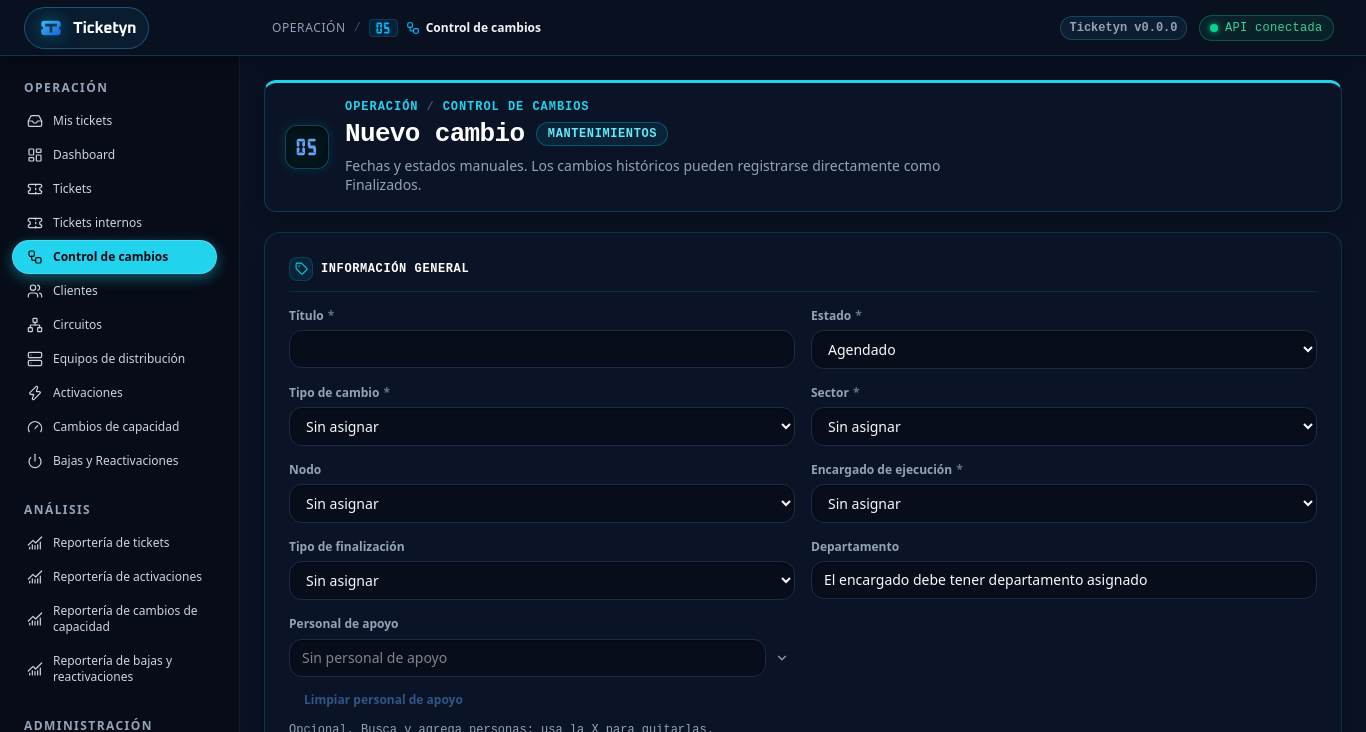
Control de cambios › crea sin ticket interno y deriva departamento en solo lectura
This screenshot has width=1366, height=732.
Type "Cambio nuevo" into the field labelled "Título". click: (542, 349)
box: [289,330,795,368]
(page scrolled)
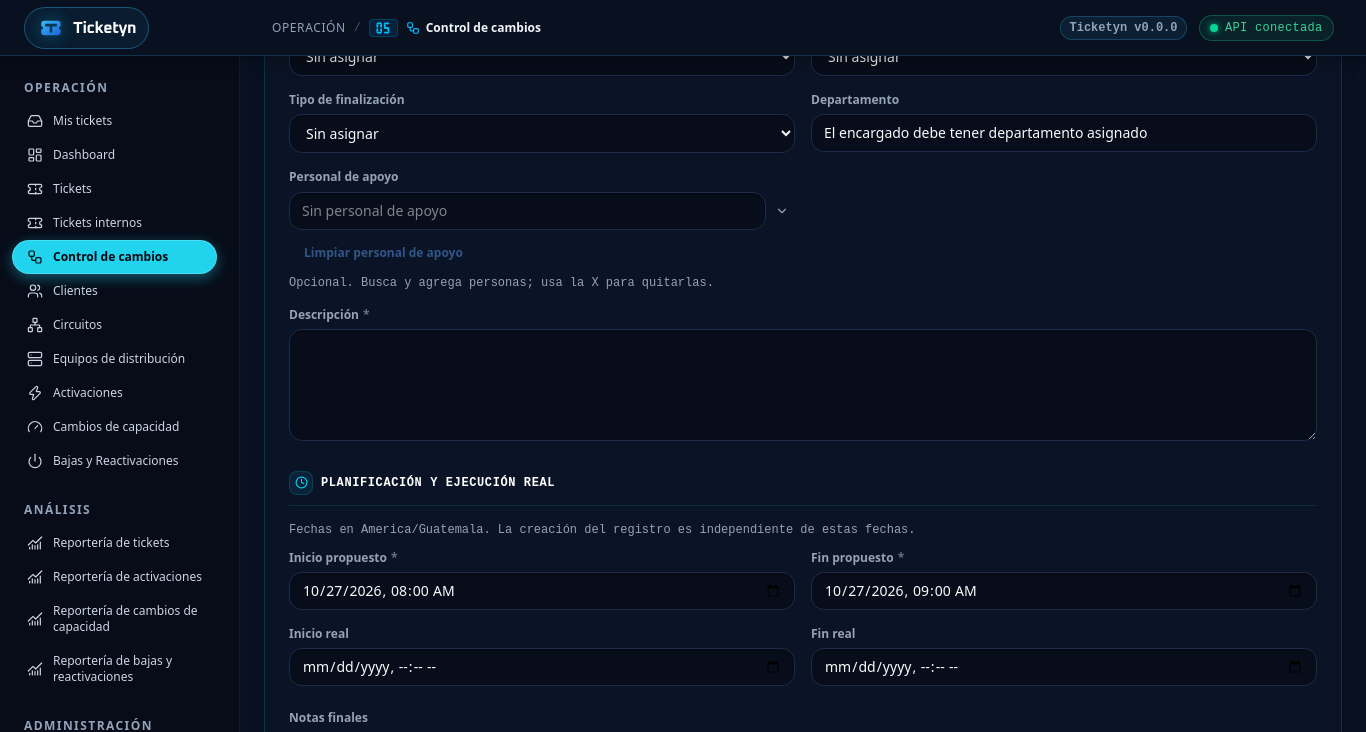
Type "Operación NOC" into the text box labelled "Descripción*". click: (803, 385)
box: [289,329,1317,441]
(page scrolled)
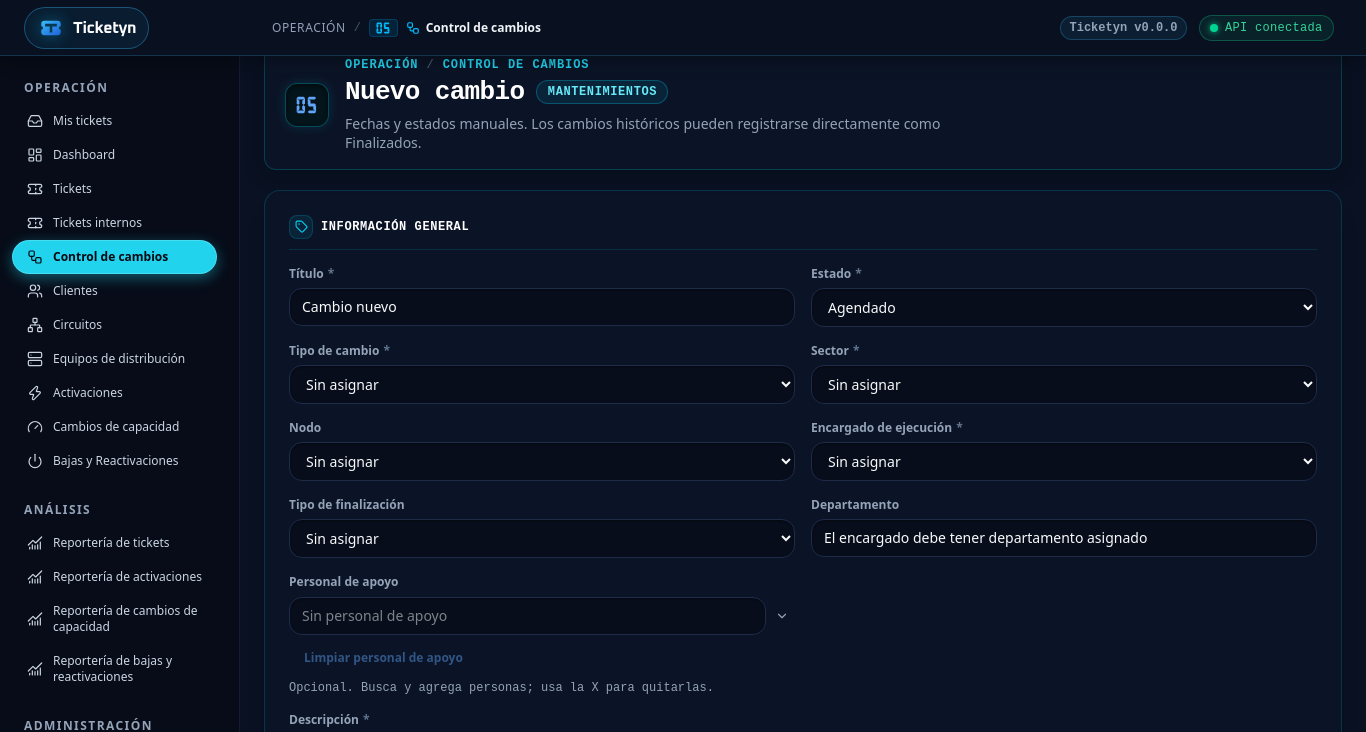
Select "NOC" in the dropdown labelled "Sector*". click: (1064, 384)
box: [811,365,1317,404]
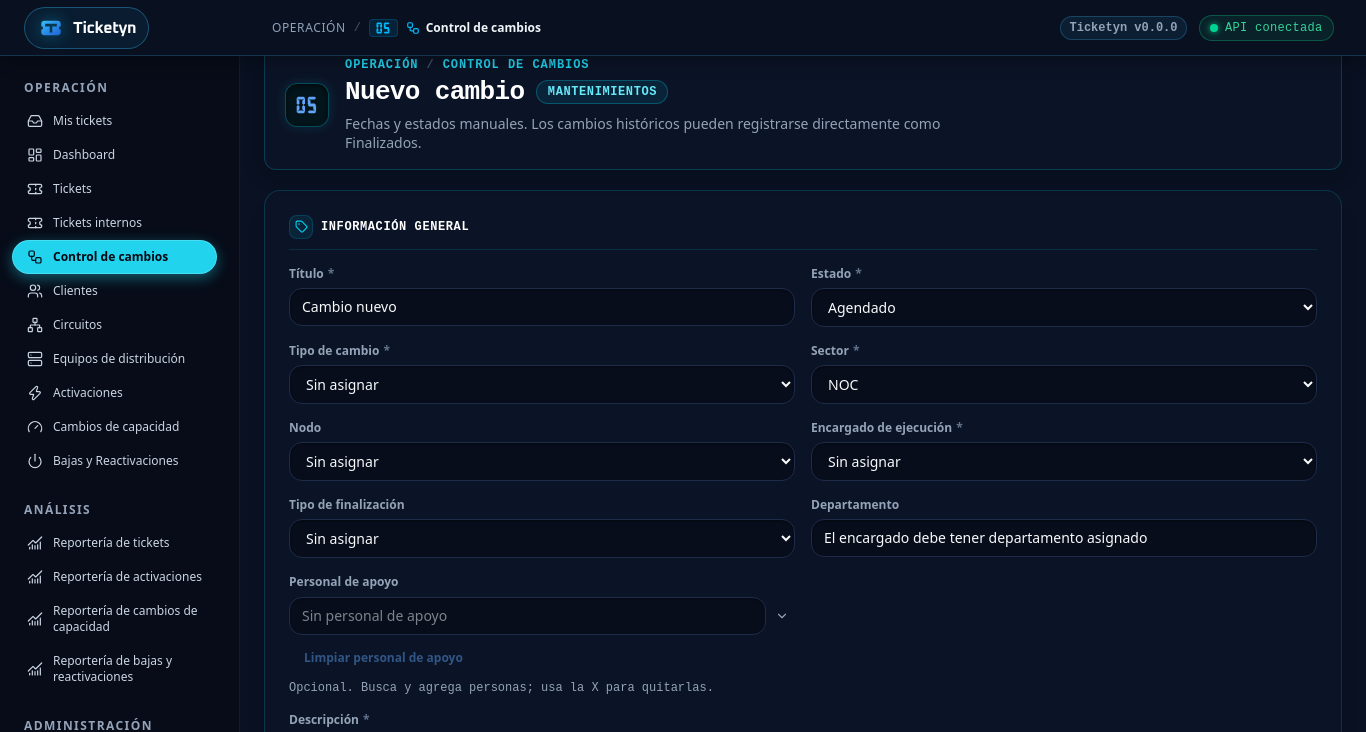
Select "NOC" in the dropdown labelled "Tipo de cambio*". click: (542, 384)
box: [289,365,795,404]
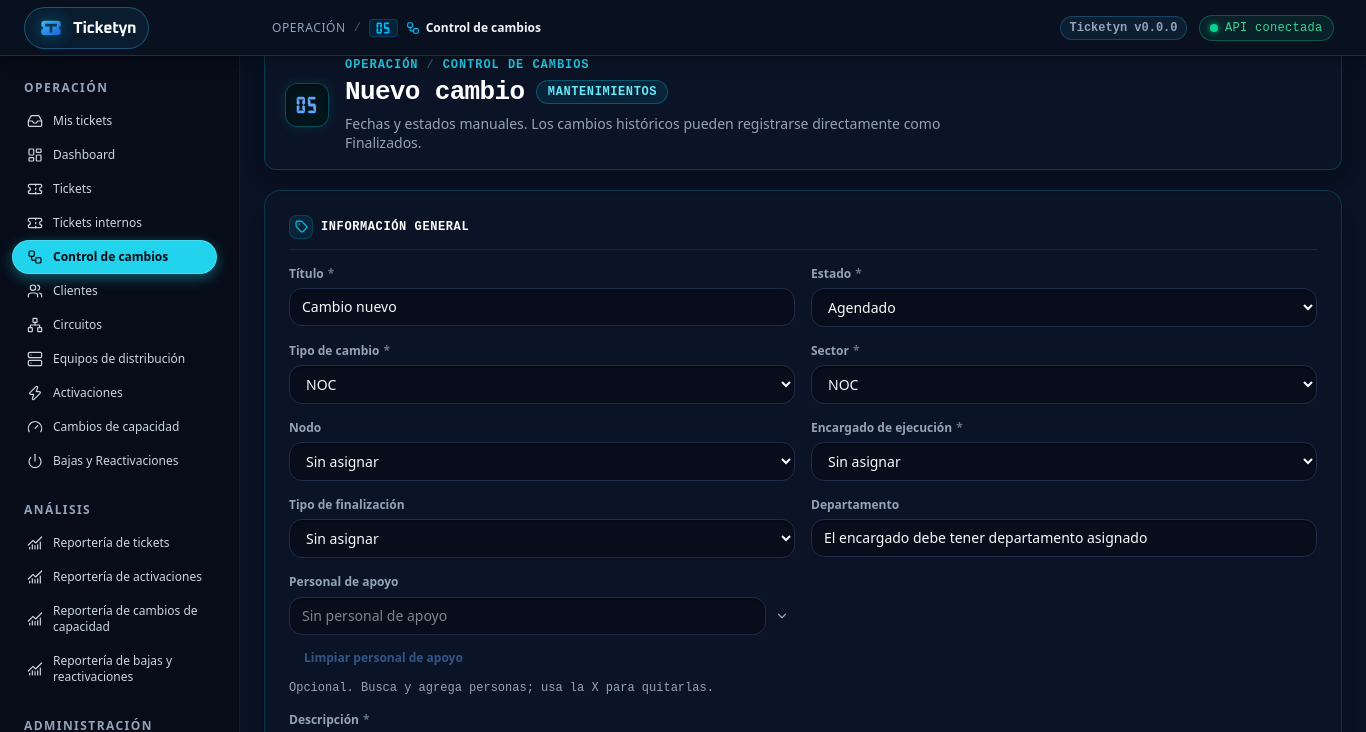
Select "Encargado NOC" in the dropdown labelled "Encargado de ejecución*". click: (1064, 461)
box: [811,442,1317,481]
(page scrolled)
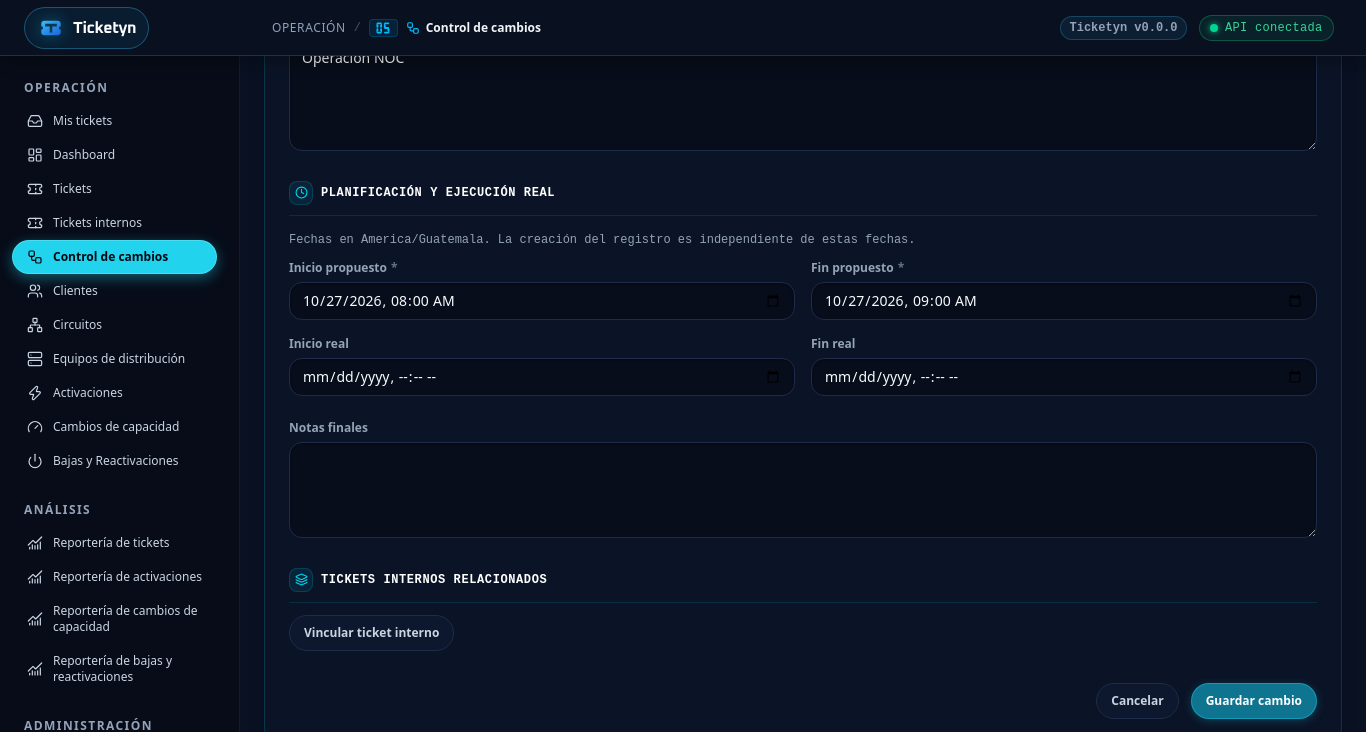
Click the button "Guardar cambio". click: (1254, 701)
box: [1191,683,1317,719]
(page scrolled)
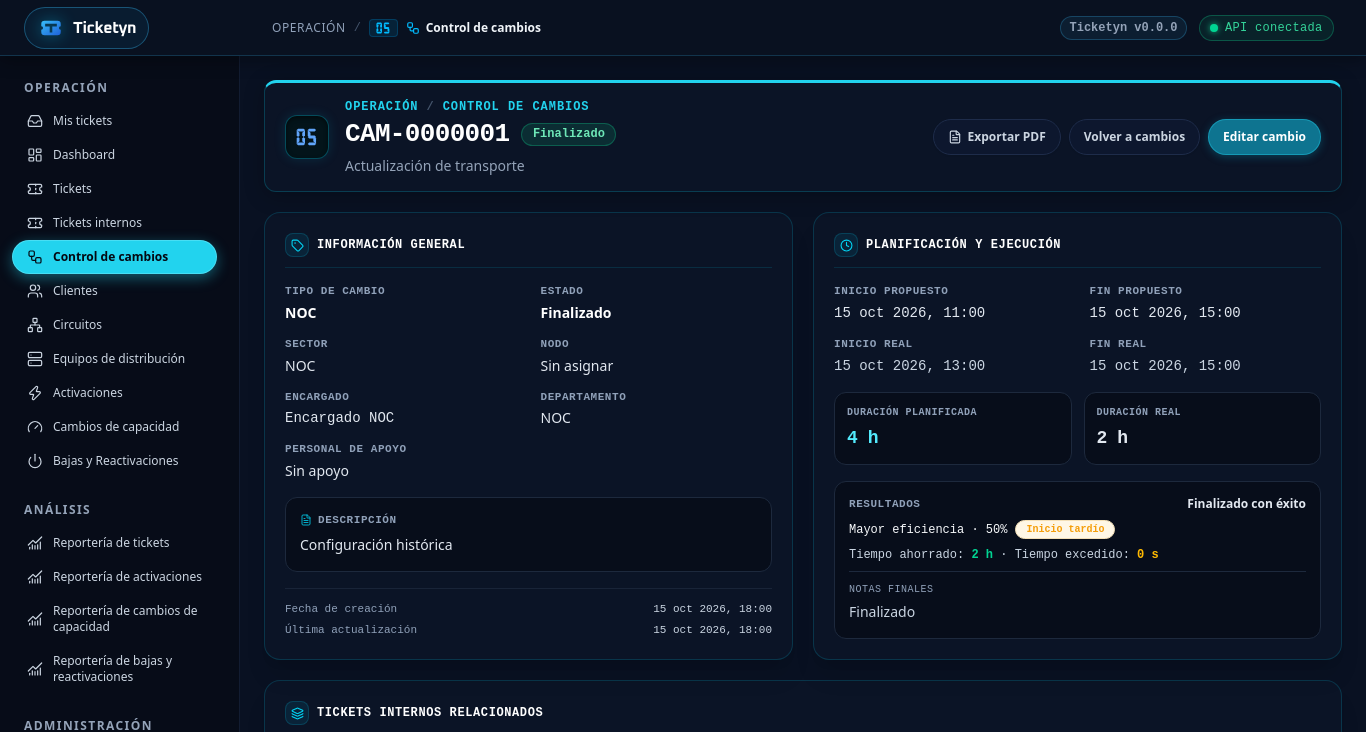
Check: the heading "CAM-0000001" is shown, box [345,117,510,152]
